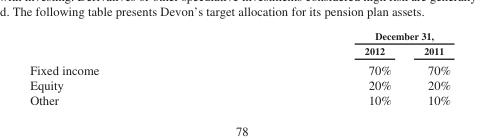table: (29, 29, 450, 107)
table column: (29, 29, 231, 107), (231, 29, 406, 107), (406, 29, 450, 107)
table column header: (29, 29, 450, 59)
table row: (29, 59, 450, 77), (29, 42, 450, 59), (29, 77, 450, 92), (29, 92, 450, 107), (29, 29, 450, 42)
table spanning cell: (231, 29, 450, 42)
